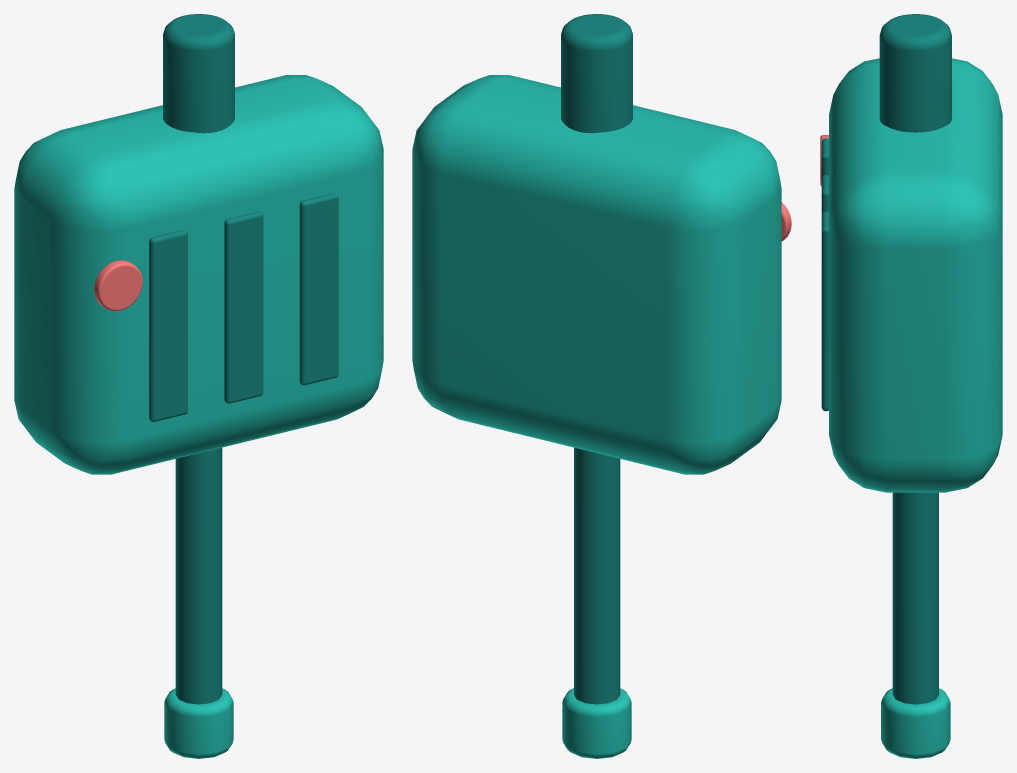
File: TankFilter.fbx
3 views of the same model, side by side, from view 1: azimuth 30°, elevation 25°; view 2: azimuth 150°, elevation 25°; view 3: azimuth 270°, elevation 25° (orthographic).
Parts seen in each view (by area): view 1: TankFilter mesh; view 2: TankFilter mesh; view 3: TankFilter mesh.
Boxes of the visible parts, box(x1,y1,x2,y2) form: TankFilter mesh: box(14, 14, 383, 758); TankFilter mesh: box(412, 14, 791, 758); TankFilter mesh: box(820, 14, 1002, 758).
Bounding box in the file's own units: 0.26 × 0.55 × 0.126.
